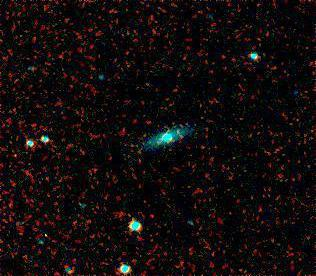star: (163, 117, 193, 147)
